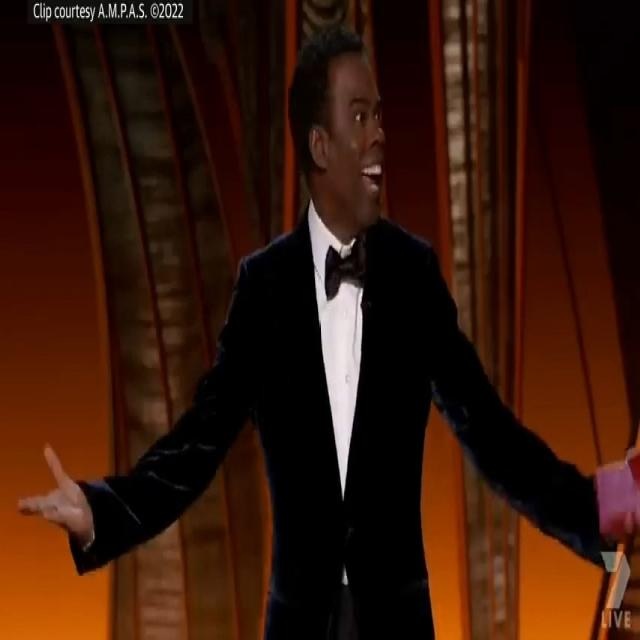non-fight: (17, 16, 640, 639)
